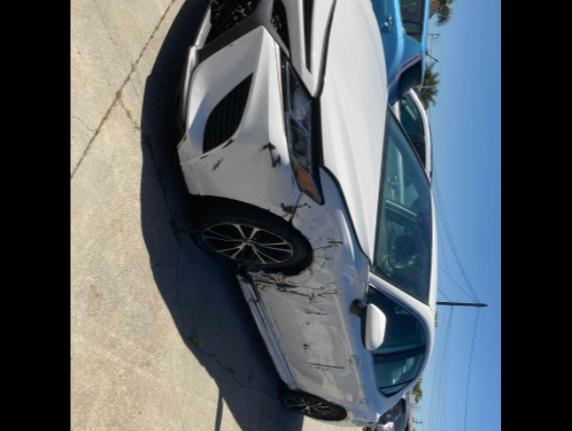Broken part: (250, 164, 372, 292), (234, 272, 298, 388), (314, 0, 338, 180)
Dent: (260, 288, 360, 406), (178, 132, 300, 218)
Paint chip: (262, 140, 282, 168), (274, 288, 312, 302), (280, 202, 310, 214), (310, 360, 346, 370), (248, 272, 276, 284), (276, 280, 302, 288), (312, 290, 338, 296), (304, 308, 328, 314), (178, 134, 188, 148), (212, 158, 223, 170), (326, 239, 344, 246), (223, 138, 234, 148), (302, 342, 310, 350), (200, 154, 208, 160)
